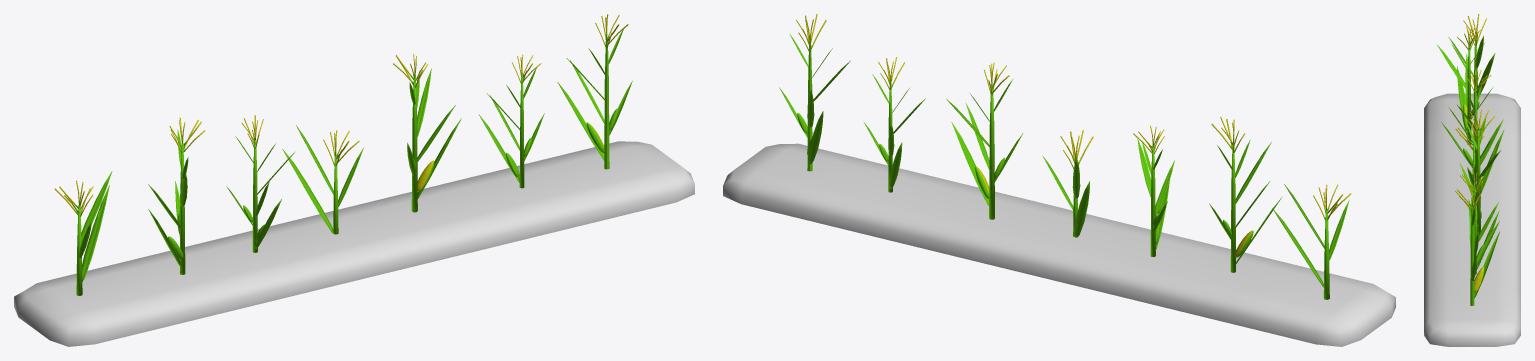
The model's file is Corn.FBX.
The picture shows the model from 3 angles, left to right: view 1: azimuth 30°, elevation 25°; view 2: azimuth 150°, elevation 25°; view 3: azimuth 270°, elevation 25°; orthographic projection. The views are drawn at different scales.
Visible parts, largest first — view 1: Box002, polySurface124, polySurface4, polySurface127, polySurface126, polySurface26, polySurface89, polySurface125, Object005; view 2: Box002, polySurface124, polySurface126, polySurface125, polySurface4, polySurface127, polySurface26, polySurface89; view 3: Box002, polySurface126, polySurface4, polySurface124, polySurface125, polySurface127, polySurface26, polySurface89, Object013, Object009, Object005, Object011 (+3 smaller).
Boxes of the visible parts, <box> form: Box002: <box>14,141,694,346</box>; polySurface124: <box>407,68,461,212</box>; polySurface4: <box>557,29,632,169</box>; polySurface127: <box>76,171,112,295</box>; polySurface126: <box>148,129,188,274</box>; polySurface26: <box>478,68,544,188</box>; polySurface89: <box>282,125,363,234</box>; polySurface125: <box>226,136,295,252</box>; Object005: <box>393,53,433,191</box>; Box002: <box>723,143,1395,346</box>; polySurface124: <box>946,78,1023,219</box>; polySurface126: <box>1209,139,1282,272</box>; polySurface125: <box>1137,138,1174,256</box>; polySurface4: <box>779,34,850,171</box>; polySurface127: <box>1272,184,1349,299</box>; polySurface26: <box>863,74,925,192</box>; polySurface89: <box>1042,155,1089,237</box>; Box002: <box>1424,93,1520,346</box>; polySurface126: <box>1436,42,1493,144</box>; polySurface4: <box>1468,198,1499,305</box>; polySurface124: <box>1460,121,1500,234</box>; polySurface125: <box>1441,78,1486,167</box>; polySurface127: <box>1448,35,1495,105</box>; polySurface26: <box>1471,182,1499,274</box>; polySurface89: <box>1472,119,1504,192</box>; Object013: <box>1455,186,1483,292</box>; Object009: <box>1457,25,1480,123</box>; Object005: <box>1468,109,1494,137</box>; Object011: <box>1463,14,1486,46</box>.
Size of the model in its own units: 11.64 by 3.08 by 1.97.
